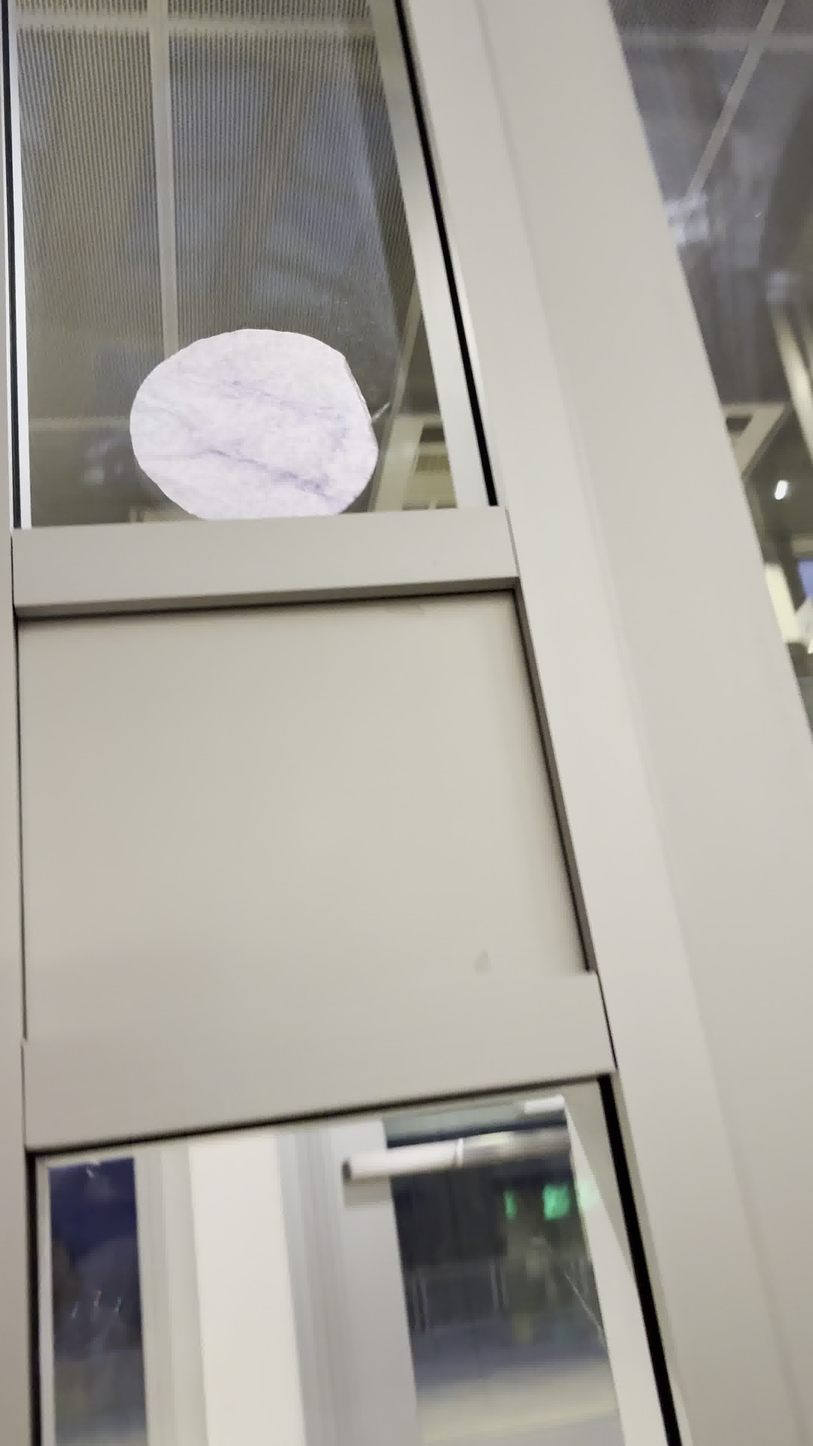Target: (126, 325, 382, 524)
